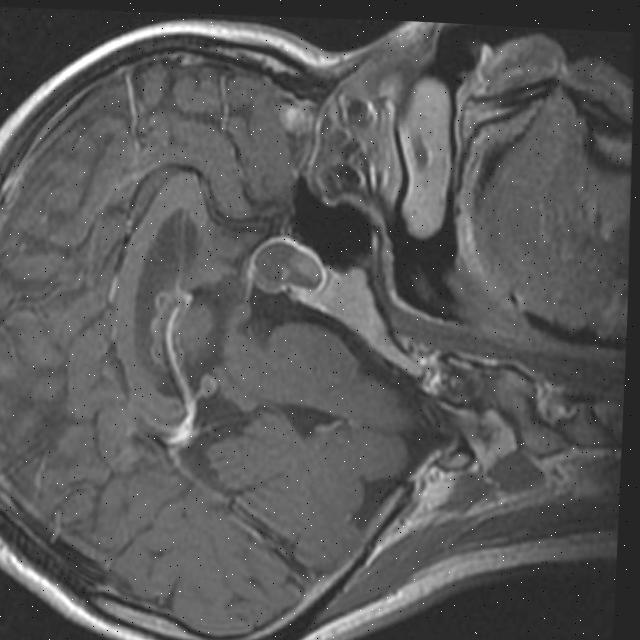Pituitary: (247, 232, 328, 296)
